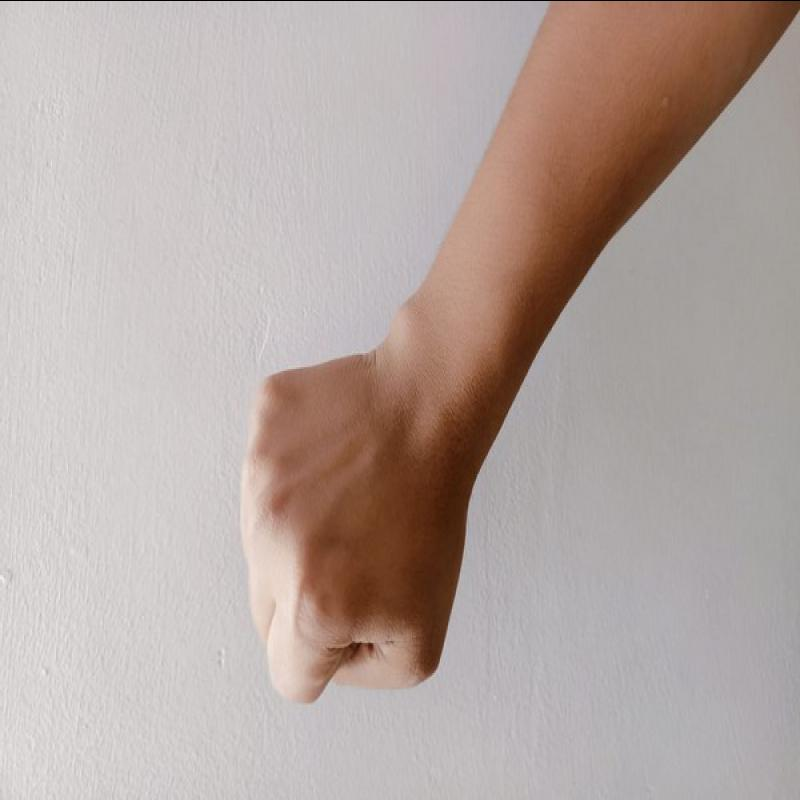Mushti: (200, 335, 500, 727)
